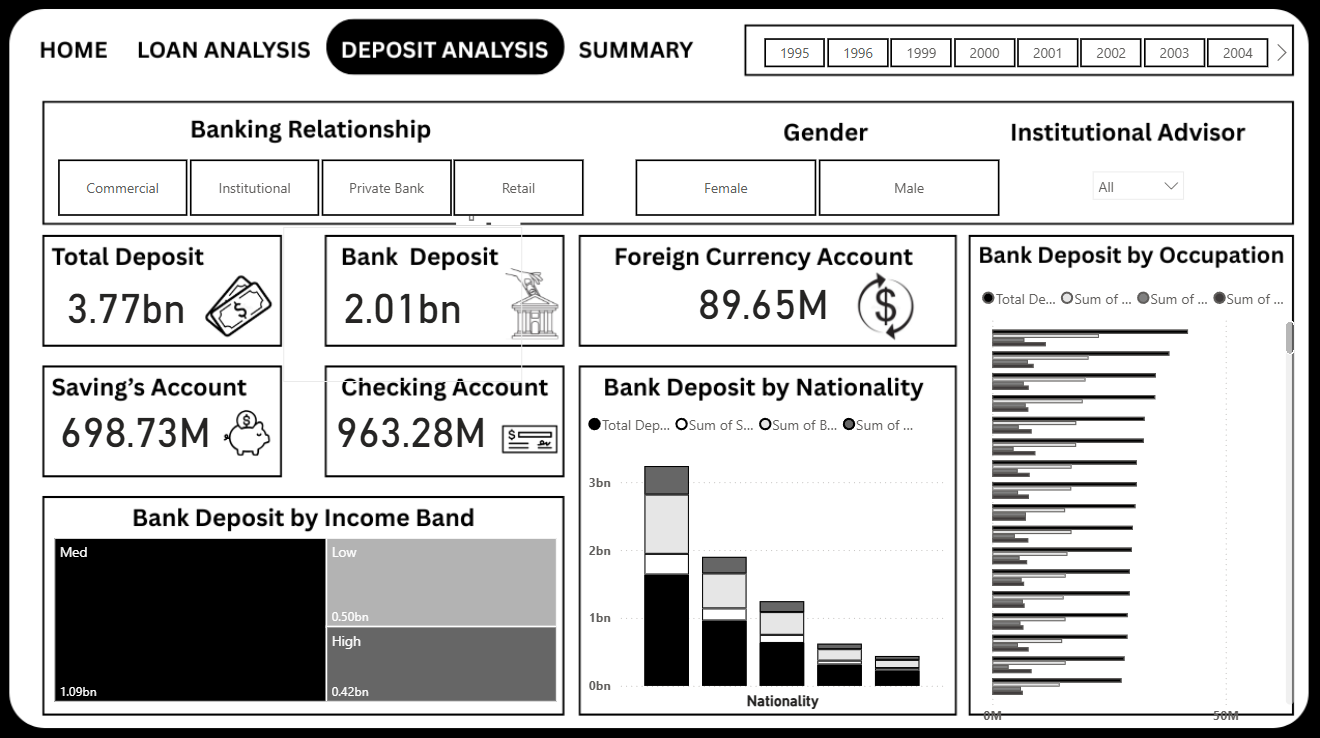

This screenshot's page, from the dashboard's own definition file:
{"tool":"powerbi","page":{"name":"Deposit Analysis","canvas":[1280,720],"ordinal":2},"visuals":[{"type":"actionButton","box":[26.5,31.4,90.5,39.8],"z":0},{"type":"actionButton","box":[129.1,32.6,177.3,39.8],"z":1000},{"type":"card","fields":{"Values":["Banking_Clients.Total Deposits"]},"box":[0,222,249.7,149.6],"z":2000},{"type":"card","fields":{"Values":["Sum(Banking_Clients.Bank Deposits)"]},"box":[276.3,222,230.4,149.6],"z":3000},{"type":"card","fields":{"Values":["Sum(Banking_Clients.Checking Accounts)"]},"box":[276.3,341.4,246.1,149.6],"z":4000},{"type":"card","fields":{"Values":["Sum(Banking_Clients.Saving Accounts)"]},"box":[0,341.4,266.6,149.6],"z":5000},{"type":"columnChart","fields":{"Category":["Banking_Clients.Nationality"],"Y":["Banking_Clients.Total Deposits","Sum(Banking_Clients.Saving Accounts)","Sum(Banking_Clients.Bank Deposits)","Sum(Banking_Clients.Checking Accounts)"]},"box":[565.8,392.1,353.5,300.4],"z":6000},{"type":"clusteredBarChart","fields":{"Category":["Banking_Clients.Occupation"],"Y":["Banking_Clients.Total Deposits","Sum(Banking_Clients.Bank Deposits)","Sum(Banking_Clients.Saving Accounts)","Sum(Banking_Clients.Checking Accounts)"]},"box":[945.8,270.2,311.3,441.6],"z":7000},{"type":"treemap","fields":{"Group":["Banking_Clients.Income band"],"Values":["Sum(Banking_Clients.Bank Deposits)"]},"box":[50.7,517.6,494.6,167.7],"z":8000},{"type":"slicer","fields":{"Values":["Banking_Clients.BRId"]},"box":[32.6,149.6,557.4,68.8],"z":9000},{"type":"slicer","fields":{"Values":["Banking_Clients.GenderId"]},"box":[589.9,149.6,401.7,68.8],"z":10000},{"type":"slicer","fields":{"Values":["Banking_Clients.IAId"]},"box":[1047.2,158,108.6,120.6],"z":11000},{"type":"card","fields":{"Values":["Sum(Banking_Clients.Foreign Currency Account)"]},"box":[582.7,218.4,313.7,149.6],"z":12000},{"type":"slicer","fields":{"Values":["Banking_Clients.year of joining"]},"box":[714.2,32.6,536.9,42.2],"z":13000},{"type":"actionButton","box":[555,31.4,130.3,39.8],"z":13001}]}

Visuals, with their boxes in screenshot pixels (x1, y1, x2, y2), scaled from the page's 1280x720 canvas onto the 1320x738 screenshot:
actionButton: box=[27, 32, 121, 73]
actionButton: box=[133, 33, 316, 74]
card - Banking_Clients.Total Deposits: box=[0, 228, 258, 381]
card - Sum(Banking_Clients.Bank Deposits): box=[285, 228, 523, 381]
card - Sum(Banking_Clients.Checking Accounts): box=[285, 350, 539, 503]
card - Sum(Banking_Clients.Saving Accounts): box=[0, 350, 275, 503]
columnChart - Banking_Clients.Nationality x Banking_Clients.Total Deposits: box=[583, 402, 948, 710]
clusteredBarChart - Banking_Clients.Occupation x Banking_Clients.Total Deposits: box=[975, 277, 1296, 730]
treemap - Banking_Clients.Income band x Sum(Banking_Clients.Bank Deposits): box=[52, 531, 562, 702]
slicer - Banking_Clients.BRId: box=[34, 153, 608, 224]
slicer - Banking_Clients.GenderId: box=[608, 153, 1023, 224]
slicer - Banking_Clients.IAId: box=[1080, 162, 1192, 286]
card - Sum(Banking_Clients.Foreign Currency Account): box=[601, 224, 924, 377]
slicer - Banking_Clients.year of joining: box=[737, 33, 1290, 77]
actionButton: box=[572, 32, 707, 73]
